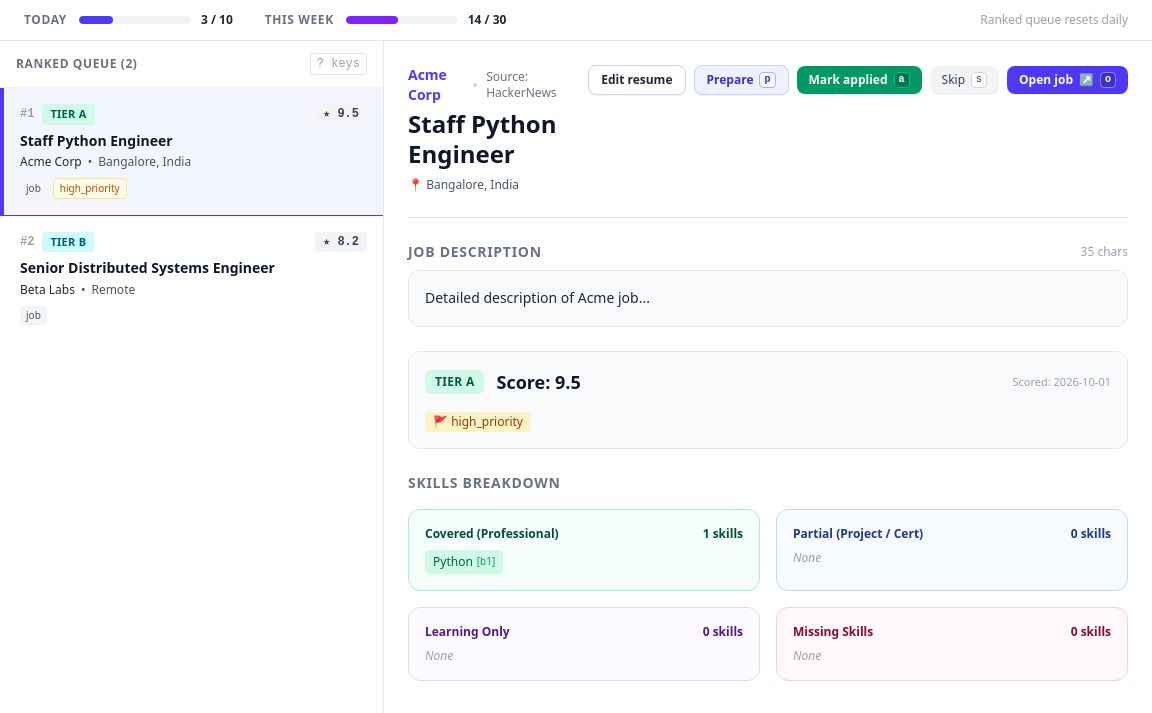
it: TodayPage Actions & Keyboard Controls (Phase 5c-1b) › prepares job on Prepare button click and shows toast
Click the button with aria-label "prepare application drafts" at (741,80), box top-left (694, 65), bottom-right (788, 95)
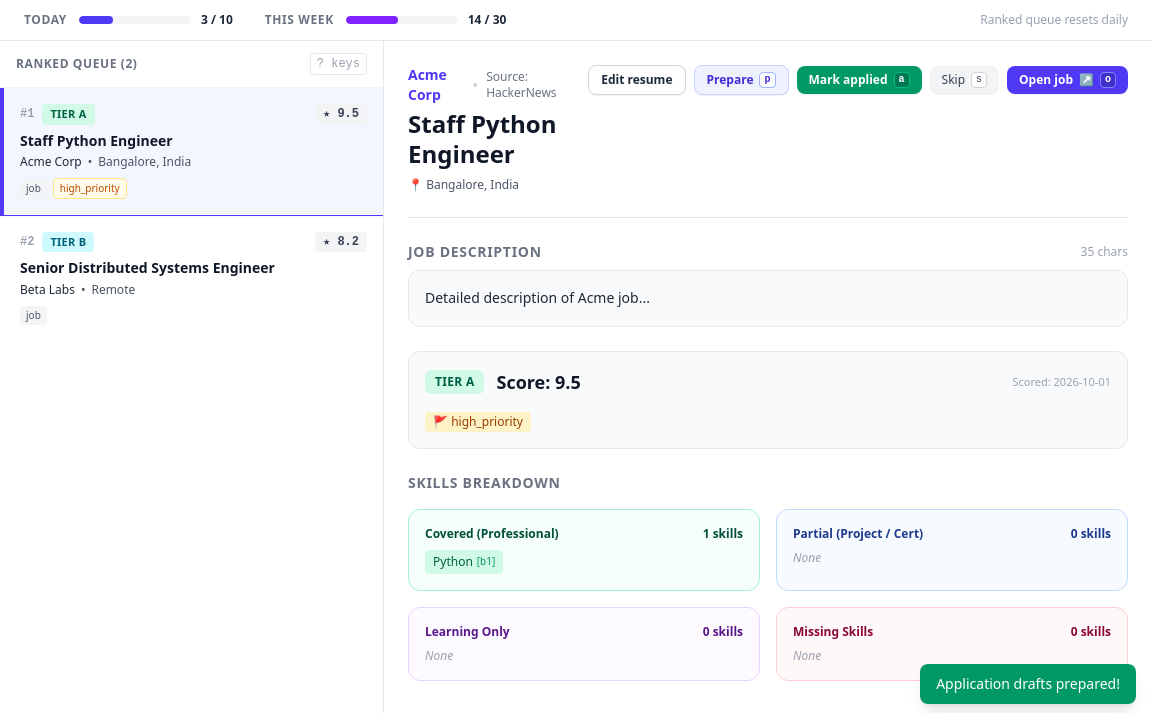
Check: the message reads "Application drafts prepared!", box top-left (936, 674), bottom-right (1120, 693)
